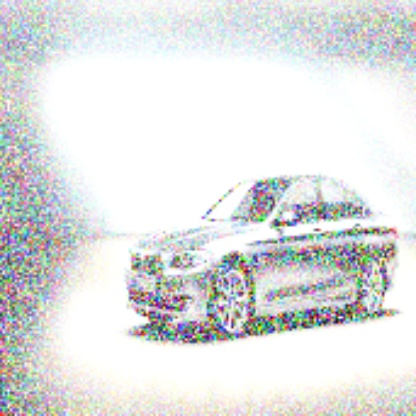Vehicle: (125, 172, 401, 340)
